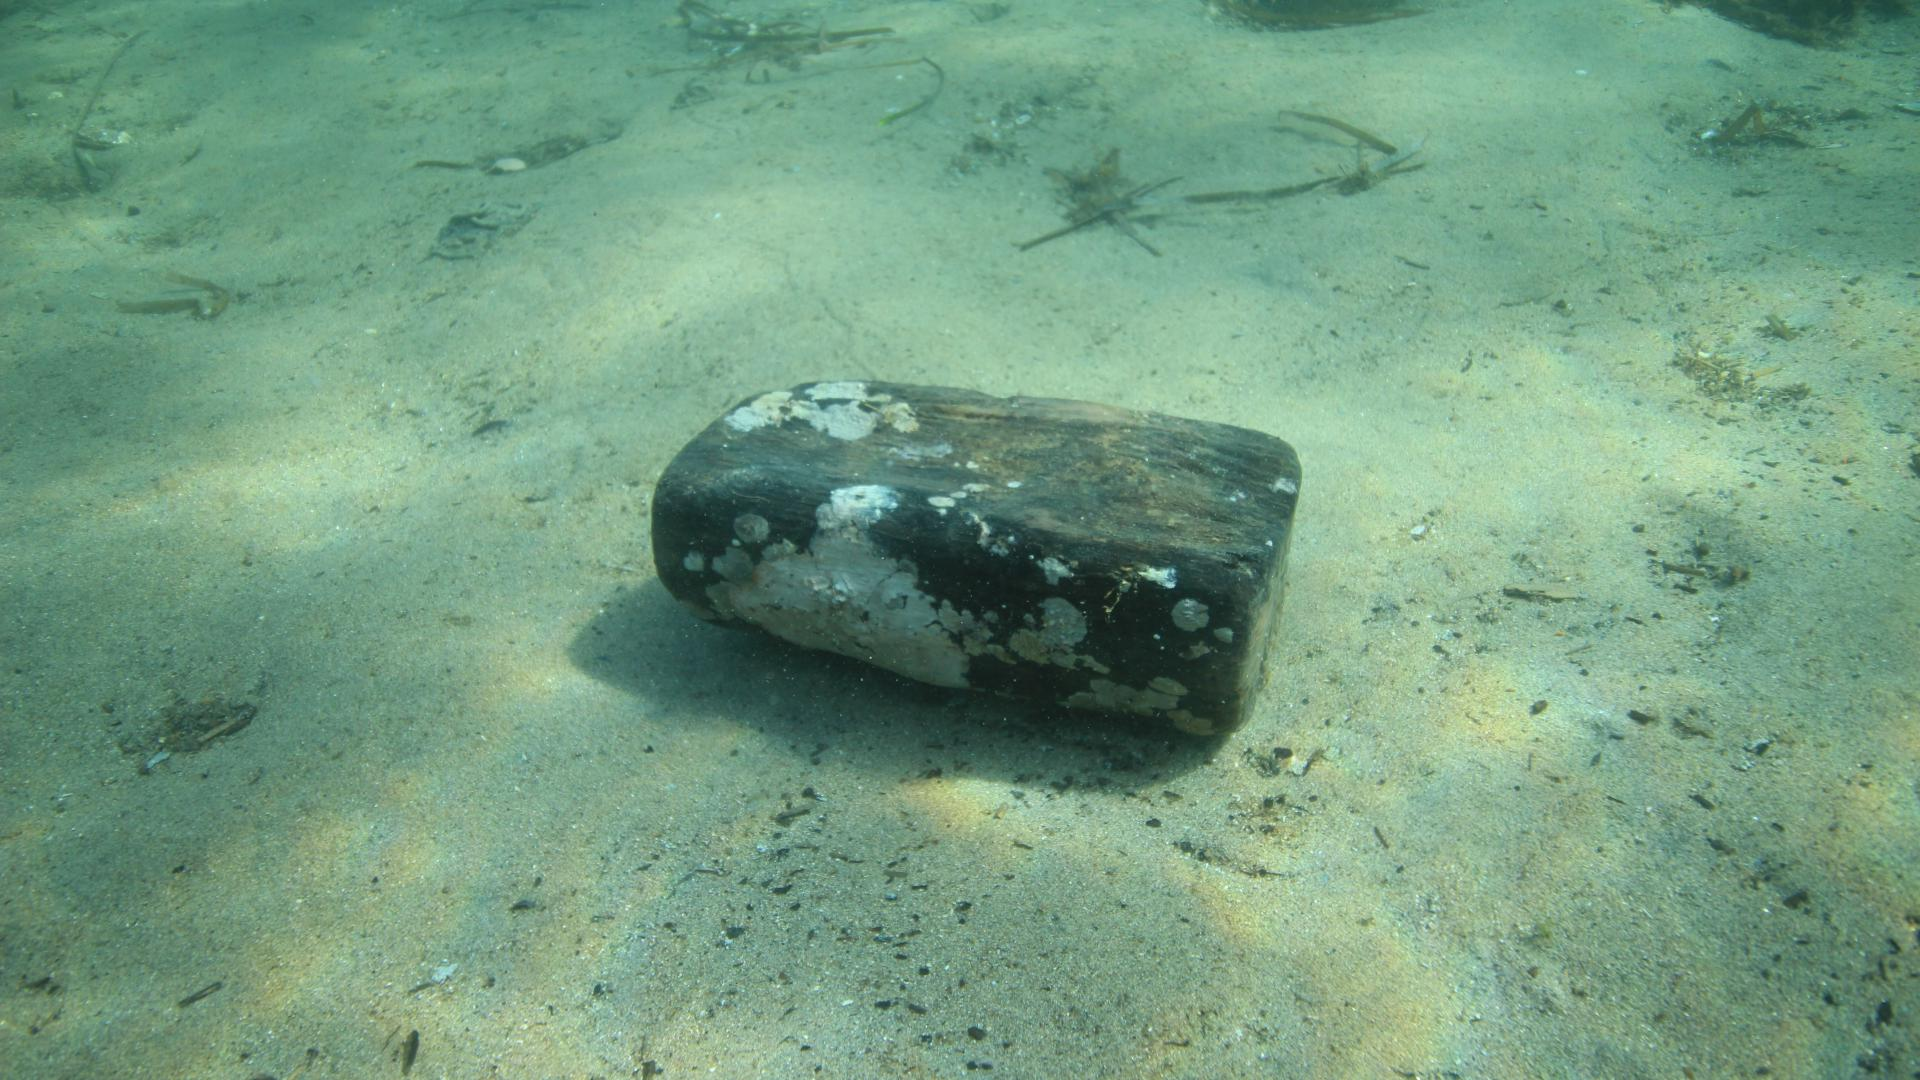wood: (649, 378, 1302, 741)
